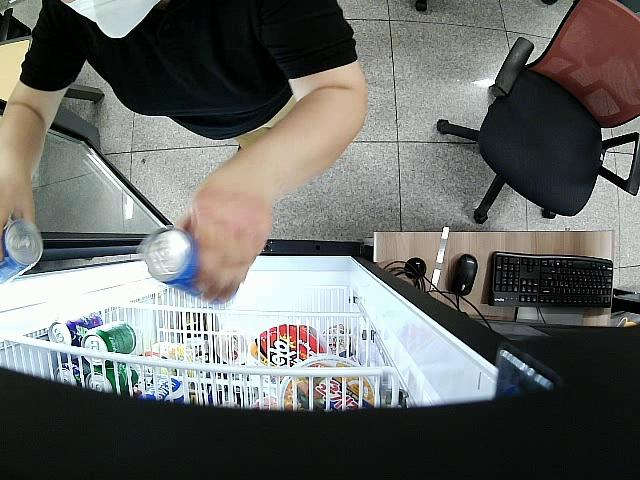00_hand: (176, 179, 273, 301), (0, 165, 41, 259)
15_letsbe: (143, 229, 239, 309), (2, 220, 44, 289)
